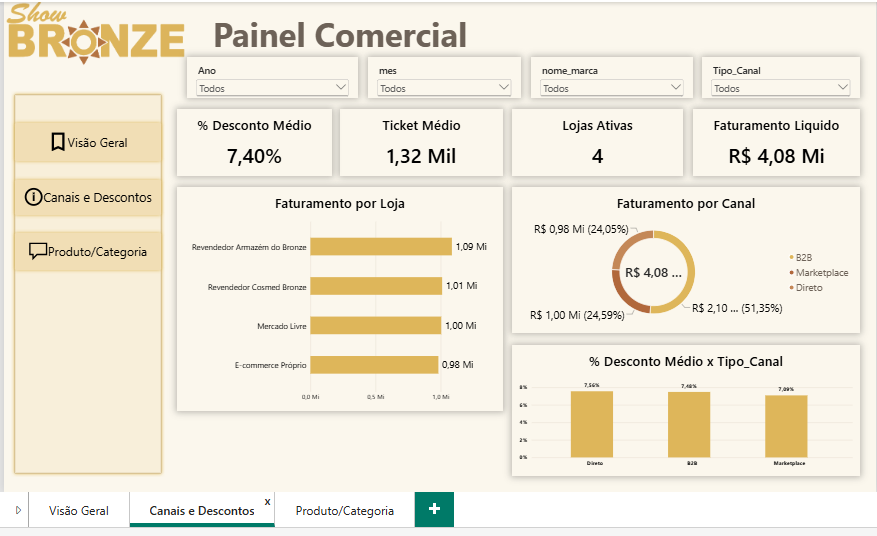

Layout of this report page (visuals, bound fields, positions):
{"tool":"powerbi","page":{"name":"Canais e Descontos","canvas":[1920,1080],"ordinal":1},"visuals":[{"type":"image","box":[0,0,403.3,138.9],"z":0},{"type":"card","title":"% Desconto Médio","fields":{"Values":["Medidas.% Desconto Médio"]},"box":[381.3,235.8,341.6,147.7],"z":1000},{"type":"textbox","box":[447.4,22,586.3,99.2],"z":2000},{"type":"card","title":"Ticket Médio","fields":{"Values":["Medidas.Ticket Médio"]},"box":[740.6,235.8,359.3,147.7],"z":3000},{"type":"card","title":"Lojas Ativas","fields":{"Values":["fato_vendas.Qtde Lojas Ativas"]},"box":[1119.7,235.8,376.9,147.7],"z":4000},{"type":"card","title":"Faturamento Liquido","fields":{"Values":["Medidas.Faturamento Líquido"]},"box":[1518.6,235.8,368.1,147.7],"z":5000},{"type":"clusteredBarChart","title":"Faturamento por Loja","fields":{"Category":["dim_loja.nome_loja"],"Y":["Medidas.Faturamento Líquido LM"]},"box":[381.3,407.8,718.5,493.7],"z":6000},{"type":"slicer","fields":{"Values":["dim_data.ano"]},"box":[403.3,121.2,376.9,90.4],"z":7000},{"type":"slicer","fields":{"Values":["dim_data.mes"]},"box":[802.3,121.2,337.2,90.4],"z":8000},{"type":"slicer","fields":{"Values":["dim_marca.nome_marca"]},"box":[1161.6,121.2,357.1,90.4],"z":9000},{"type":"slicer","fields":{"Values":["dim_loja.tipo_canal"]},"box":[1538.4,121.2,348.2,90.4],"z":10000},{"type":"donutChart","title":"Faturamento por Canal","fields":{"Category":["dim_loja.Tipo_Canal"],"Y":["Medidas.Faturamento Líquido"]},"box":[1119.7,407.8,767,321.8],"z":11000},{"type":"columnChart","title":"% Desconto Médio x Tipo_Canal","fields":{"Category":["dim_loja.Tipo_Canal"],"Y":["Medidas.% Desconto Médio"]},"box":[1119.7,756,767,288.7],"z":12000},{"type":"shape","box":[15.4,196.2,339.4,850.8],"z":13000},{"type":"actionButton","box":[15.4,257.9,339.4,101.4],"z":14000},{"type":"actionButton","box":[15.4,383.5,339.4,94.8],"z":15000},{"type":"actionButton","box":[15.4,500.3,339.4,99.2],"z":16000}]}

Visuals, with their boxes on the page's 1920x1080 design canvas (x1, y1, x2, y2). These are canvas units, not pixel positions in the 877x536 screenshot, which may show the page scaled, cropped or inside an application window:
image: <box>0,0,403,139</box>
"% Desconto Médio" card: <box>381,236,723,384</box>
textbox: <box>447,22,1034,121</box>
"Ticket Médio" card: <box>741,236,1100,384</box>
"Lojas Ativas" card: <box>1120,236,1497,384</box>
"Faturamento Liquido" card: <box>1519,236,1887,384</box>
"Faturamento por Loja" clusteredBarChart: <box>381,408,1100,902</box>
slicer - dim_data.ano: <box>403,121,780,212</box>
slicer - dim_data.mes: <box>802,121,1140,212</box>
slicer - dim_marca.nome_marca: <box>1162,121,1519,212</box>
slicer - dim_loja.tipo_canal: <box>1538,121,1887,212</box>
"Faturamento por Canal" donutChart: <box>1120,408,1887,730</box>
"% Desconto Médio x Tipo_Canal" columnChart: <box>1120,756,1887,1045</box>
shape: <box>15,196,355,1047</box>
actionButton: <box>15,258,355,359</box>
actionButton: <box>15,384,355,478</box>
actionButton: <box>15,500,355,600</box>
